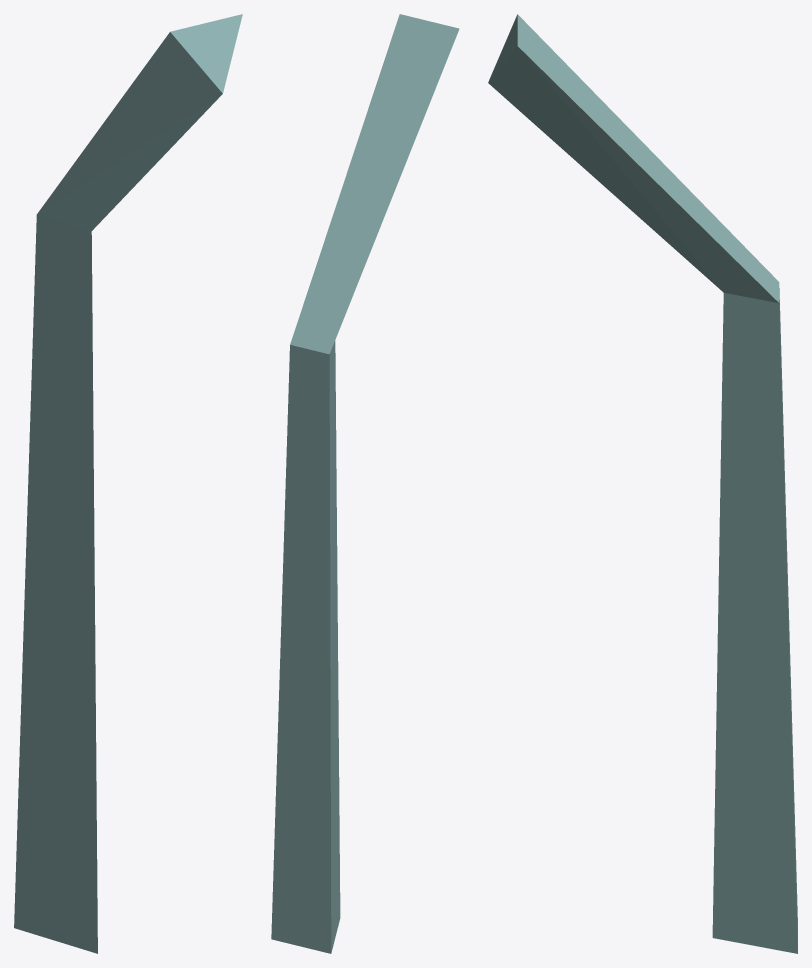
Rendered from Stütze_Türkis_482.glb.
3 views of the same model, side by side, from view 1: azimuth 30°, elevation 25°; view 2: azimuth 150°, elevation 25°; view 3: azimuth 270°, elevation 25° (orthographic). The views are drawn at different scales.
Parts seen in each view (by area): view 1: pCylinderShape1; view 2: pCylinderShape1; view 3: pCylinderShape1.
Boxes of the visible parts, box(x1,y1,x2,y2) form: pCylinderShape1: box(14, 14, 242, 953); pCylinderShape1: box(271, 14, 459, 953); pCylinderShape1: box(488, 14, 797, 953).
Size of the model in its own units: 0.0498 by 0.6598 by 0.2041.
